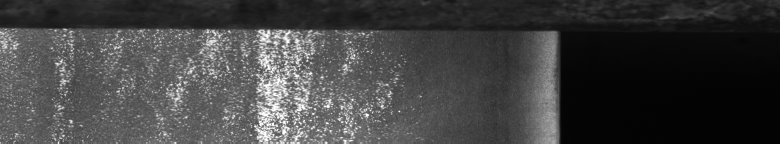kb: (4, 20, 416, 136)
